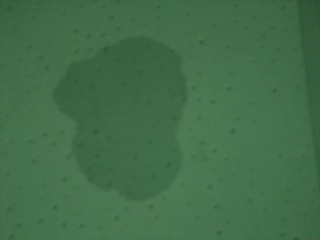Water_detected: (66, 59, 167, 180)
